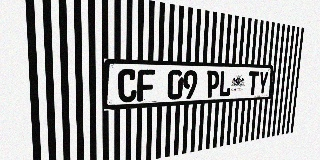0: (167, 70, 183, 100)
9: (183, 70, 198, 99)
C: (118, 69, 137, 103)
F: (137, 69, 155, 102)
L: (219, 71, 232, 97)
P: (206, 70, 220, 98)
T: (247, 71, 259, 95)
Y: (257, 71, 269, 95)
